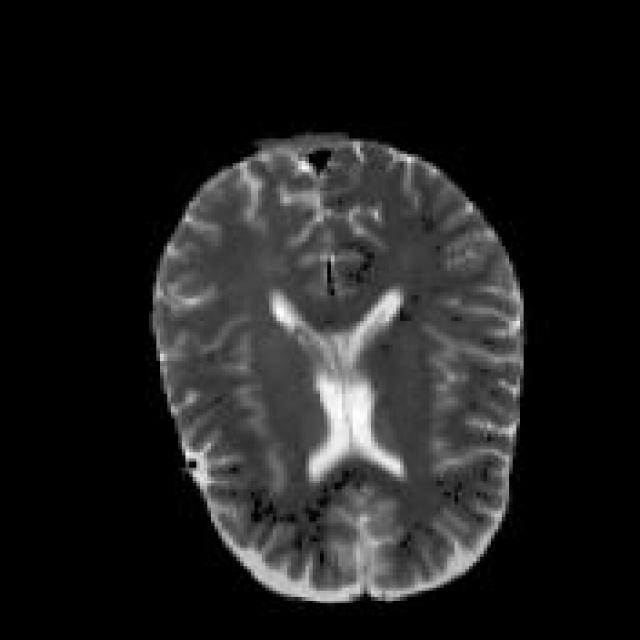parkinson: (145, 129, 528, 603)
